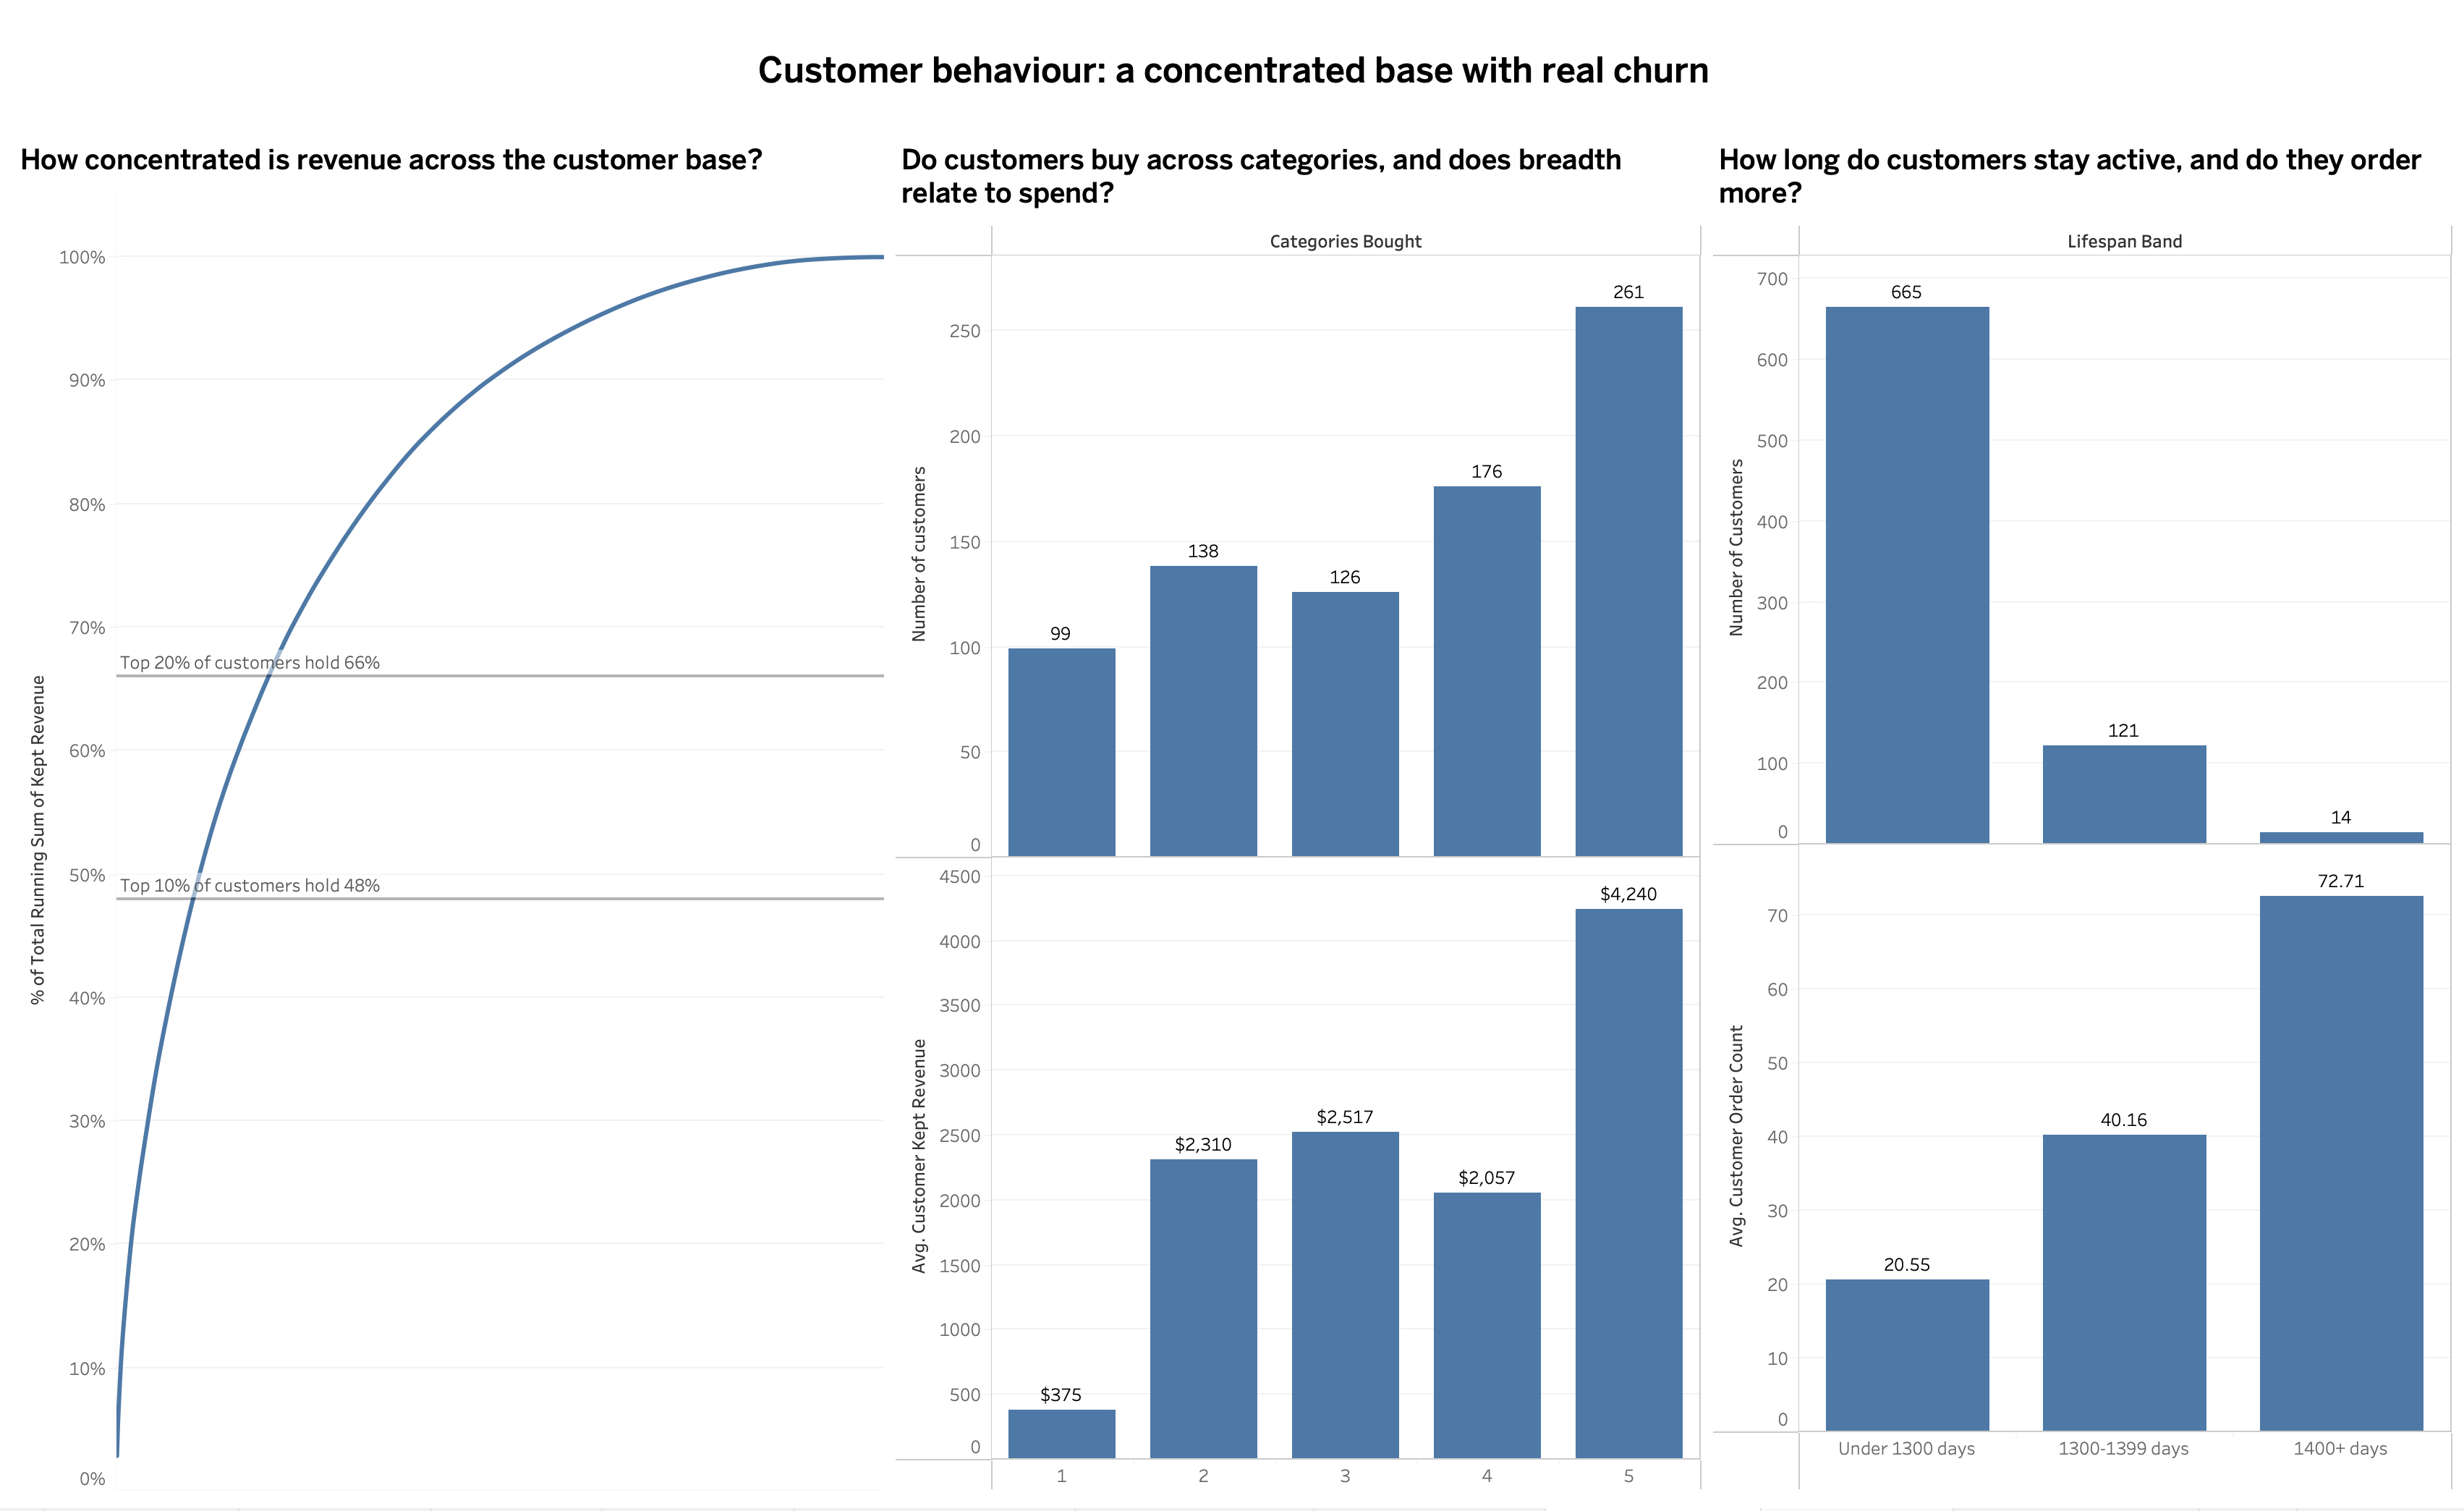

Layout of this report page (visuals, bound fields, positions):
{"tool":"tableau","page":{"name":"Customer Behaviour","canvas":[1000,1000],"units":"permille","ordinal":0},"visuals":[{"type":"title","box":[5.3,9.2,989.3,98]},{"type":"worksheet","title":"05 Q1 Customer Concentration","mark":"Line","rows":["Calculation_0091241463054336"],"cols":["customer_id"],"box":[5.3,107.3,355.5,883.5]},{"type":"worksheet","title":"05 Q2 Purchasing Breadth","mark":"Automatic","rows":["customer_id","Calculation_0071931741802498"],"cols":["Calculation_0071931749527560"],"box":[360.9,107.3,330.2,883.5]},{"type":"worksheet","title":"05 Q3 Customer Lifespan","mark":"Automatic","rows":["customer_id","Calculation_0765311558262787"],"cols":["Calculation_0765311557931010"],"box":[691.1,107.3,303.6,883.5]}]}

Visuals, with their boxes on the dashboard's canvas, which has no fixed pixel size, in thousandths of its width and height (x1, y1, x2, y2). These are canvas units, not pixel positions in the 2464x1511 screenshot, which may show the page scaled, cropped or inside an application window:
title: (left=5, top=9, right=995, bottom=107)
"05 Q1 Customer Concentration" worksheet (Line marks): (left=5, top=107, right=361, bottom=991)
"05 Q2 Purchasing Breadth" worksheet: (left=361, top=107, right=691, bottom=991)
"05 Q3 Customer Lifespan" worksheet: (left=691, top=107, right=995, bottom=991)
